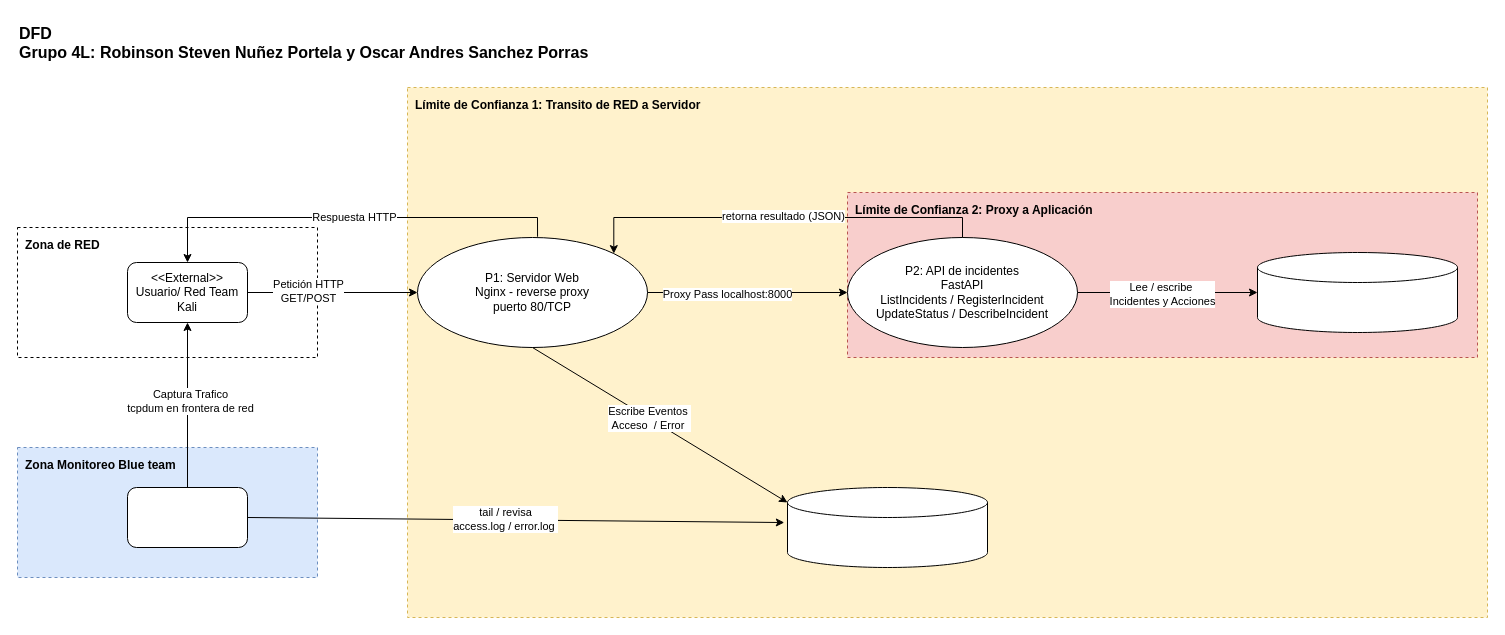
This 1505x635 diagram has some shape labels left out. The centre of each missing label's shape, as x and y in pixels:
<<External>> Blue Team host / tcpdump: the point at 187,517
D1: Memoria Incidentes y Acciones: the point at 1357,292
D2: Telemetria access.log / error.log: the point at 887,527
